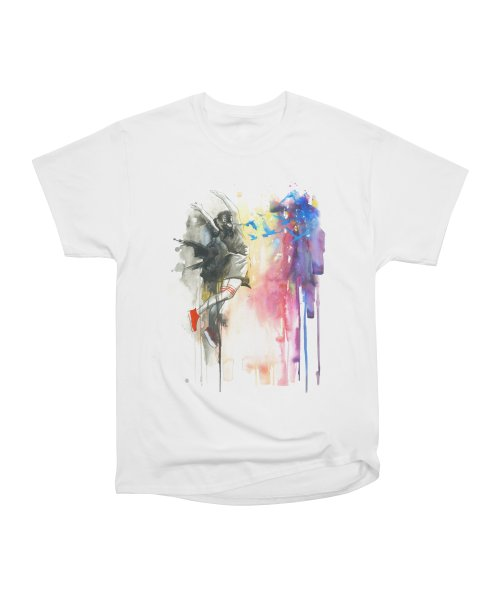design: (164, 182, 334, 395)
